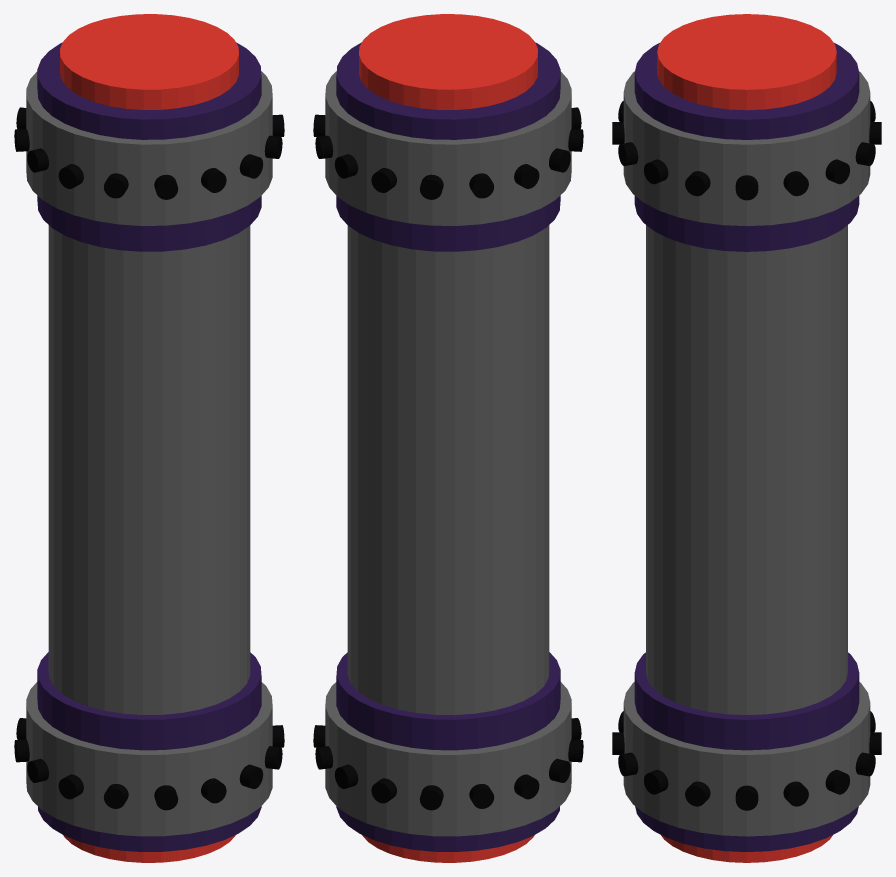
The model's file is shaker.fbx.
3 views of the same model, side by side, from view 1: azimuth 30°, elevation 25°; view 2: azimuth 150°, elevation 25°; view 3: azimuth 270°, elevation 25° (orthographic).
Visible parts, largest first — view 1: Cylinder, Cylinder.001, Cylinder.002, Cylinder.022, Cylinder.023, Cylinder.021, Cylinder.024, Cylinder.019, Cylinder.020, Cylinder.010, Cylinder.014, Cylinder.013 (+1 smaller); view 2: Cylinder, Cylinder.001, Cylinder.002, Cylinder.022, Cylinder.023, Cylinder.021, Cylinder.024, Cylinder.019, Cylinder.020, Cylinder.007, Cylinder.016, Cylinder.017 (+1 smaller); view 3: Cylinder, Cylinder.002, Cylinder.001, Cylinder.022, Cylinder.023, Cylinder.021, Cylinder.024, Cylinder.019, Cylinder.020, Cylinder.006, Cylinder.011.
Boxes of the visible parts, x1,y1,x2,y2 form: Cylinder: (48,225,250,714); Cylinder.001: (26,682,272,836); Cylinder.002: (26,71,272,225); Cylinder.022: (60,14,238,109); Cylinder.023: (37,652,261,750); Cylinder.021: (37,42,261,139); Cylinder.024: (37,195,261,251); Cylinder.019: (38,806,261,851); Cylinder.020: (63,835,235,862); Cylinder.010: (14,725,284,762); Cylinder.014: (14,114,284,151); Cylinder.013: (16,107,282,158); Cylinder: (347,225,549,714); Cylinder.001: (325,682,571,836); Cylinder.002: (325,71,571,225); Cylinder.022: (359,14,537,109); Cylinder.023: (336,652,560,750); Cylinder.021: (336,42,560,139); Cylinder.024: (336,195,560,251); Cylinder.019: (336,806,559,851); Cylinder.020: (362,835,534,862); Cylinder.007: (313,725,583,762); Cylinder.016: (313,114,583,151); Cylinder.017: (315,107,581,158); Cylinder: (646,225,847,714); Cylinder.002: (623,71,870,226); Cylinder.001: (623,682,870,836); Cylinder.022: (657,14,836,110); Cylinder.023: (634,652,859,750); Cylinder.021: (634,43,859,139); Cylinder.024: (634,195,859,251); Cylinder.019: (635,806,858,851); Cylinder.020: (661,835,832,862); Cylinder.006: (612,732,881,754); Cylinder.011: (612,122,881,144).
Size of the model in its own units: 240 by 760 by 240.
